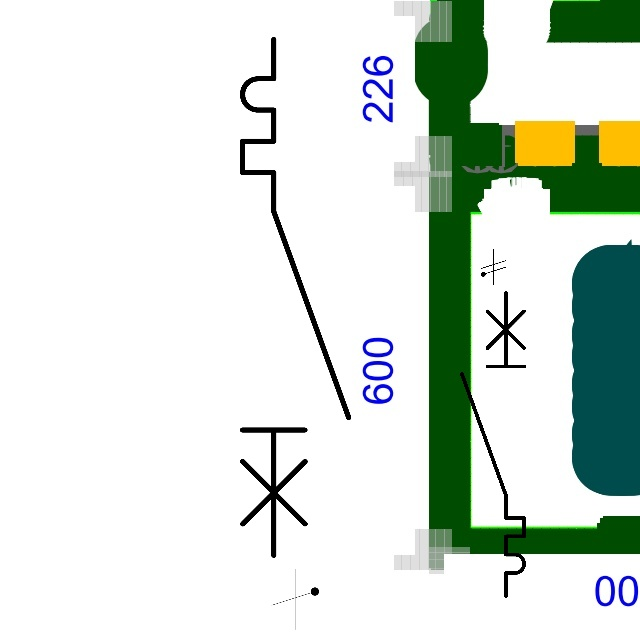interruptor_termomagnetico: (229, 26, 362, 569), (454, 285, 532, 604)
